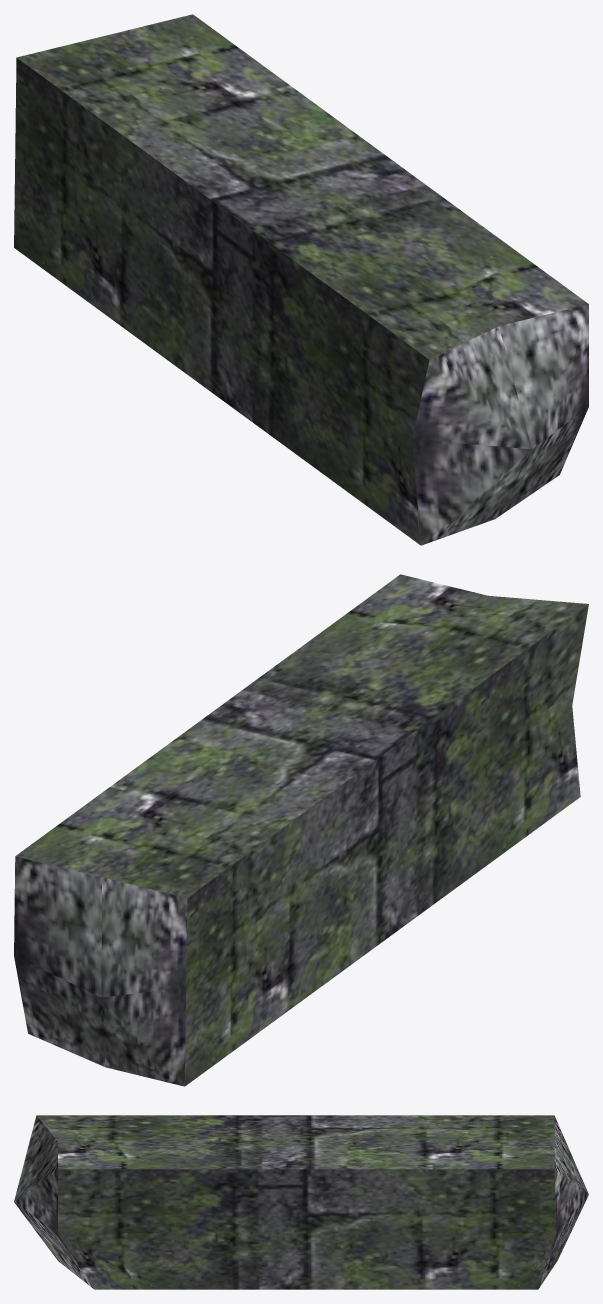
3 views of the same model, one above another, from view 1: azimuth 30°, elevation 25°; view 2: azimuth 150°, elevation 25°; view 3: azimuth 270°, elevation 25° (orthographic). The views are drawn at different scales.
Visible parts, largest first — view 1: model_Object43; view 2: model_Object43; view 3: model_Object43.
Part boxes in pixels (x1=…): model_Object43: x1=14, y1=14, x2=588, y2=545; model_Object43: x1=14, y1=574, x2=588, y2=1086; model_Object43: x1=14, y1=1115, x2=588, y2=1289.
Size of the model in its own units: 0.7167 by 0.7446 by 3.22.
1 material, 1 textured.
